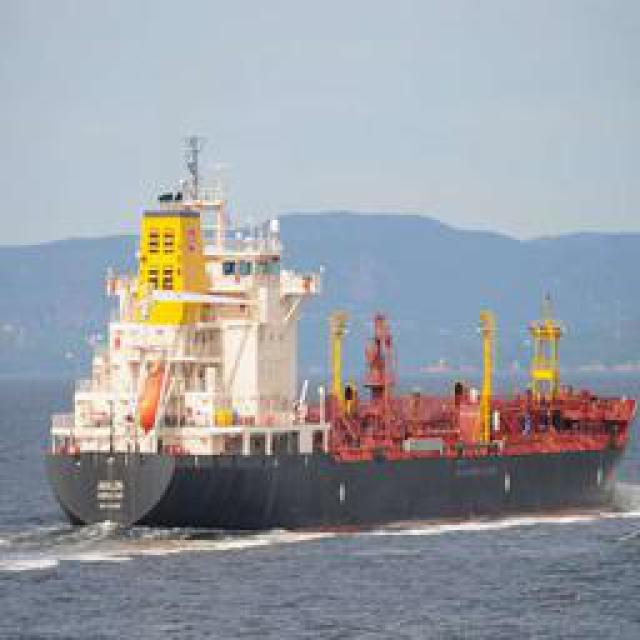Ship: (31, 151, 639, 536)
